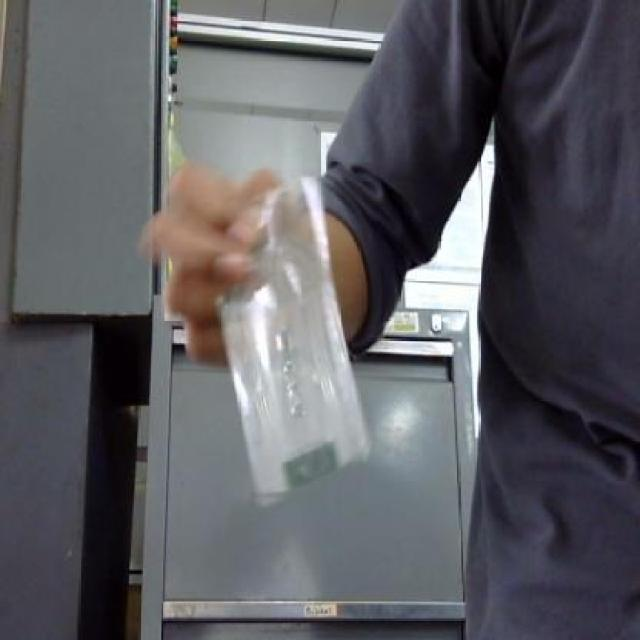Plastic: (212, 168, 375, 516)
